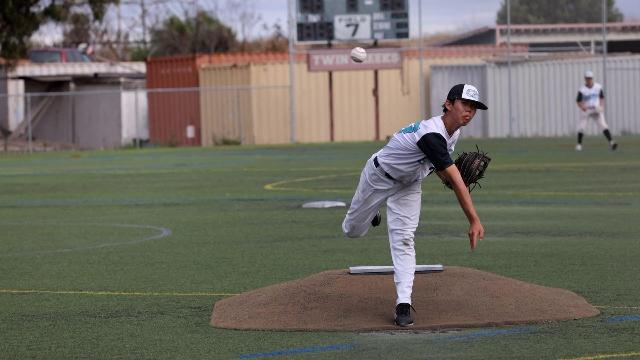ball: (352, 46, 366, 64)
